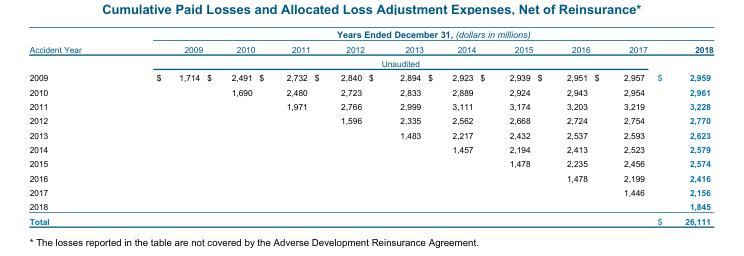table: (28, 28, 712, 225)
table column: (28, 28, 118, 225), (118, 28, 204, 225), (651, 28, 712, 225), (365, 28, 425, 225), (591, 28, 651, 225), (477, 28, 534, 225), (534, 28, 591, 225), (256, 28, 311, 225), (311, 28, 365, 225), (204, 28, 256, 225), (425, 28, 477, 225)
table column header: (28, 28, 712, 70)
table row: (28, 55, 712, 70), (28, 98, 712, 113), (28, 141, 712, 156), (28, 184, 712, 199), (28, 41, 712, 55), (28, 70, 712, 84), (28, 84, 712, 98), (28, 113, 712, 127), (28, 127, 712, 141), (28, 156, 712, 170), (28, 170, 712, 184), (28, 199, 712, 213), (28, 28, 712, 41), (28, 213, 712, 225)
table spanning cell: (118, 55, 651, 70), (118, 28, 712, 41), (28, 28, 118, 70), (651, 41, 712, 70)
